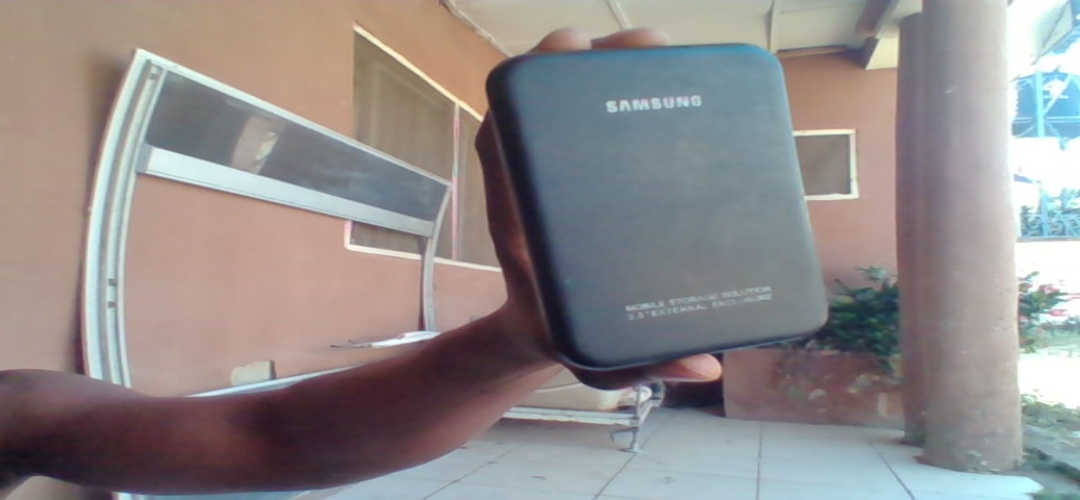hard_disk_case: (487, 50, 830, 367)
